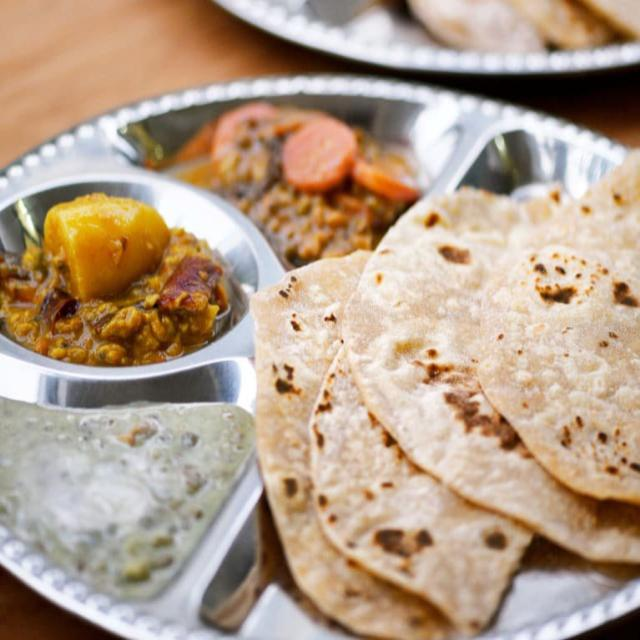CHAPATHI: (253, 152, 639, 639)
